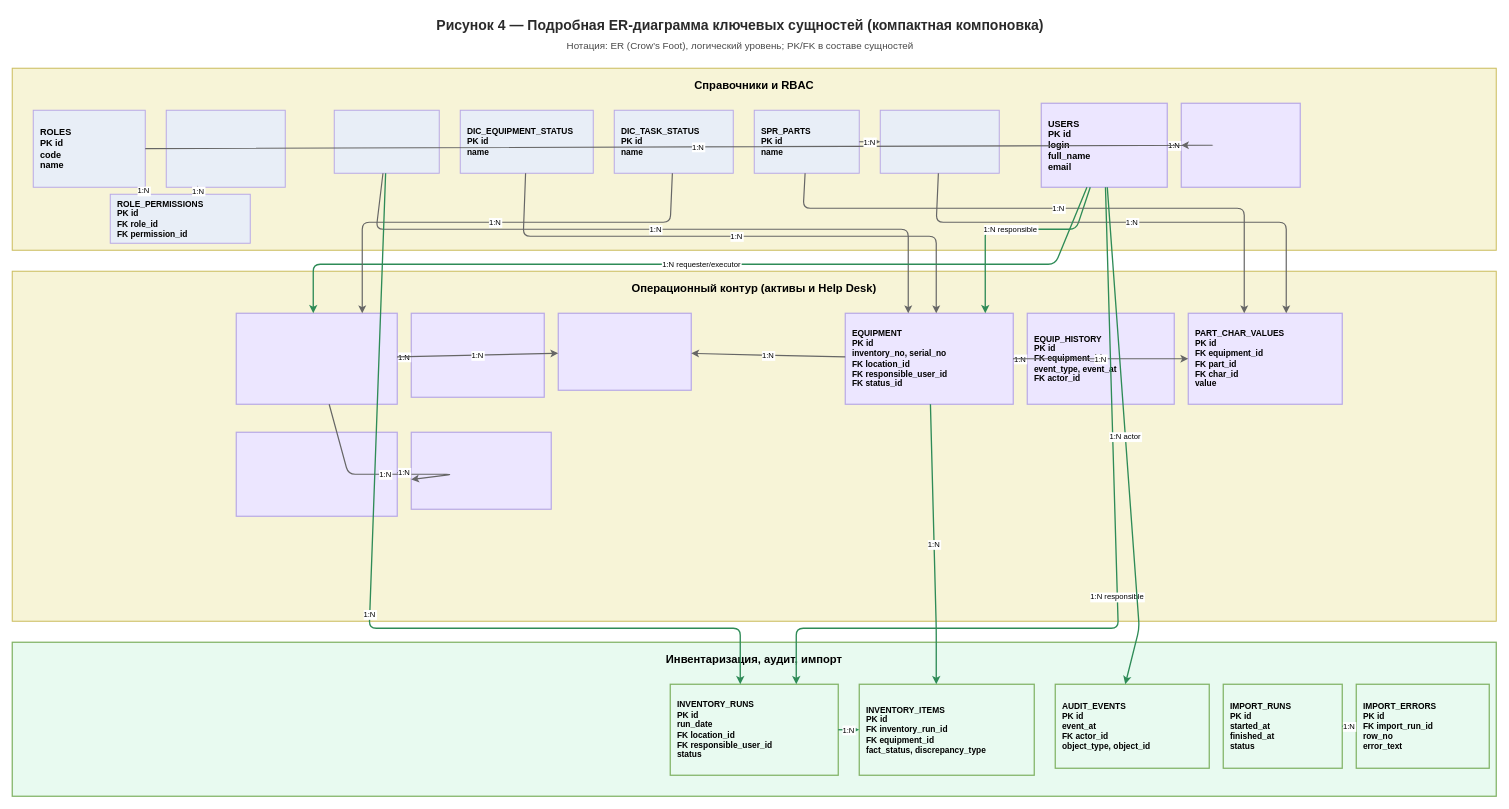
The diagram is 1509 pixels wide and 809 high, and some of its shapes have lost their labels. Here are the shapes that lost their labels. From the top down, the centre of each, then its label:
At [225,148]: "PERMISSIONS PK id code name".
At [386,141]: "LOCATIONS PK id name".
At [939,141]: "SPR_CHARS PK id FK part_id name".
At [1240,145]: "USER_ROLES PK id FK user_id FK role_id".
At [316,358]: "TASKS PK id title, description FK requester_id FK executor_id FK status_id".
At [477,355]: "TASK_HISTORY PK id FK task_id changed_at FK actor_id".
At [624,351]: "TASK_EQUIPMENT PK id FK task_id FK equipment_id".
At [316,474]: "DESK_ATTACHMENTS PK id file_name, mime_type uploaded_at FK uploaded_by".
At [481,470]: "TASK_ATTACHMENTS PK id FK task_id FK attachment_id".
